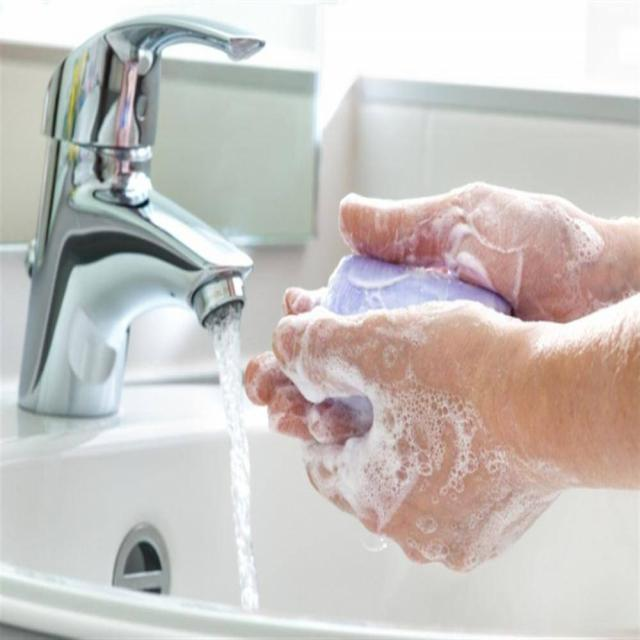tap: (20, 11, 278, 430)
